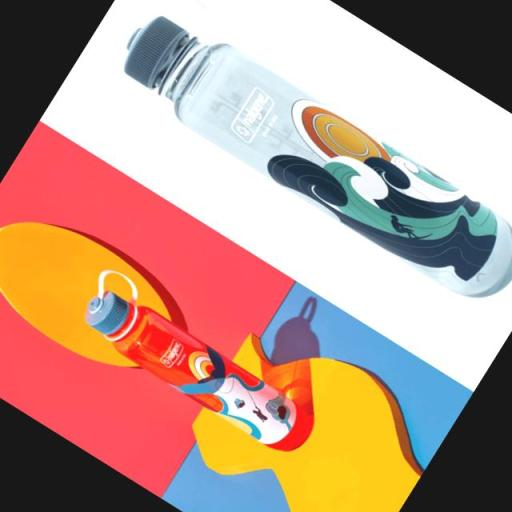bottle: (95, 0, 512, 319), (67, 261, 332, 465)
